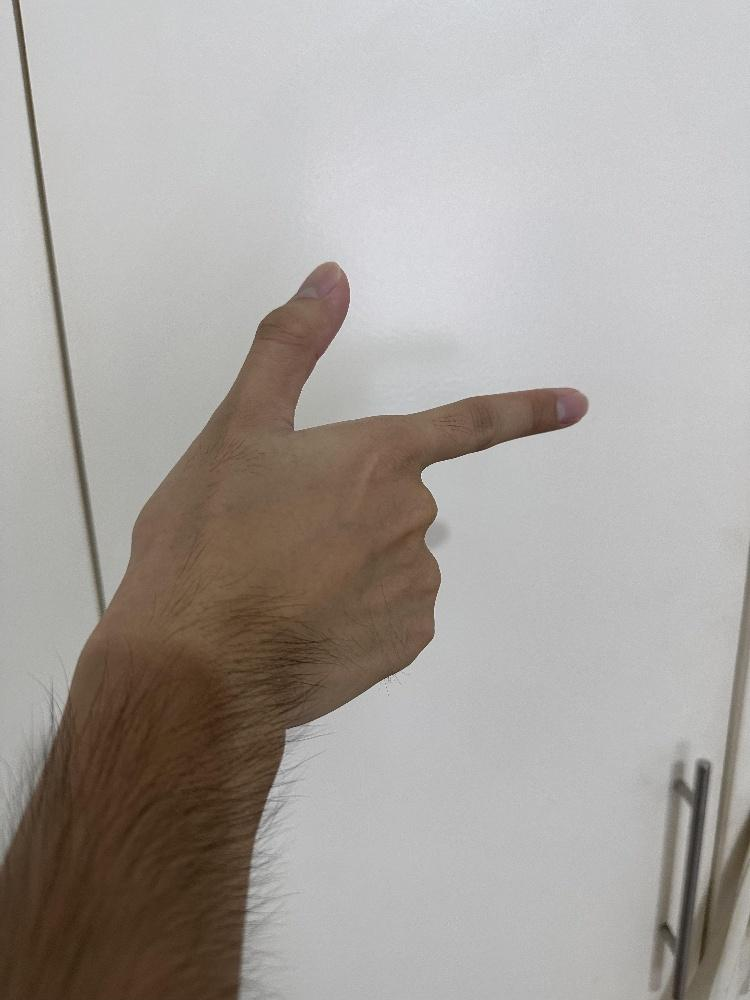g: (126, 254, 592, 727)
